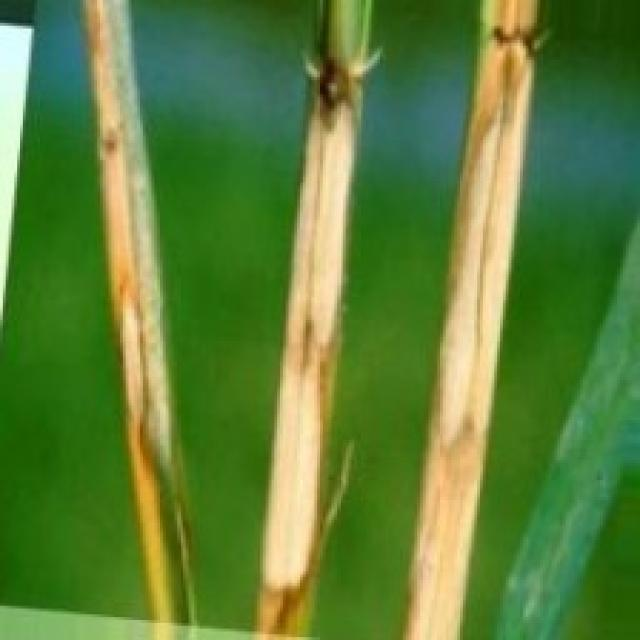Bacterial_Blight: (180, 19, 413, 640), (32, 0, 174, 640), (416, 0, 482, 640), (72, 247, 198, 469)
